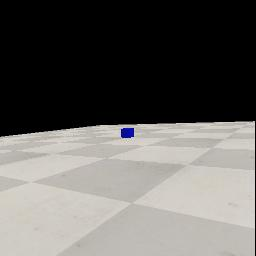box: (121, 128, 134, 138)
